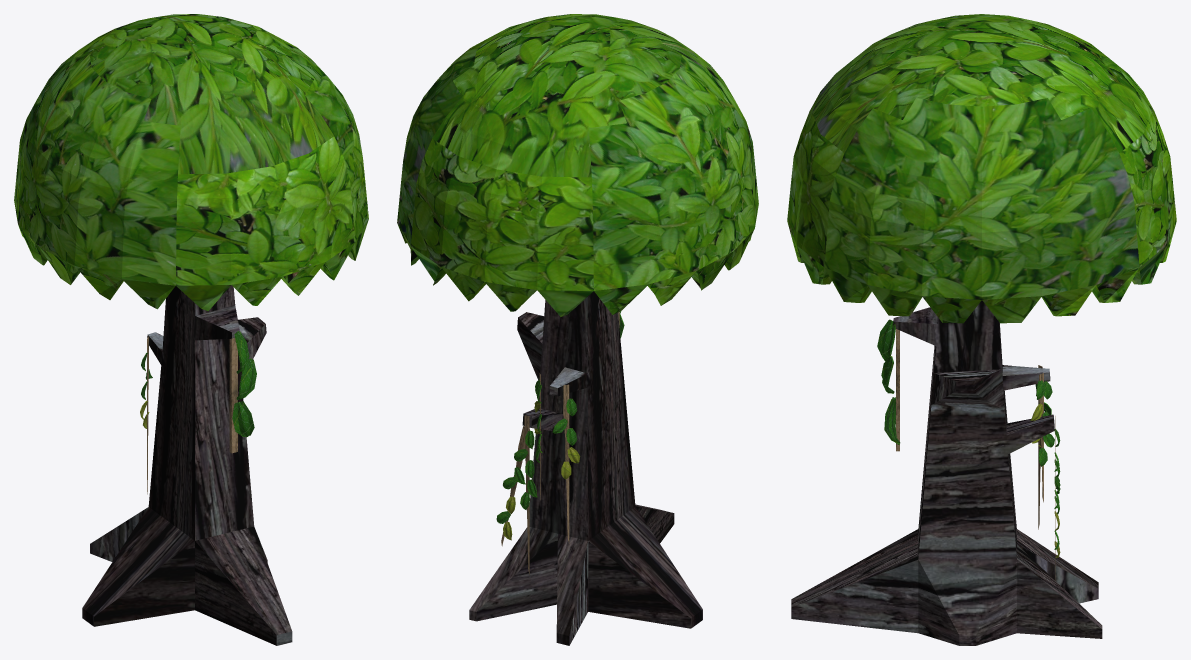
Rendered from tree5.fbx.
3 views of the same model, side by side, from view 1: azimuth 30°, elevation 25°; view 2: azimuth 150°, elevation 25°; view 3: azimuth 270°, elevation 25° (orthographic). The views are drawn at different scales.
Visible parts, largest first — view 1: tree:pSphere1, pCube1, pCube2, VEHICLEMAYBE:pPlane24, VEHICLEMAYBE:pPlane22; view 2: tree:pSphere1, pCube1, VEHICLEMAYBE:pPlane3; view 3: tree:pSphere1, pCube1.
Part boxes in pixels (x1,y1,x2,y2): tree:pSphere1: (14, 14, 368, 311); pCube1: (82, 285, 292, 645); pCube2: (229, 338, 237, 453); VEHICLEMAYBE:pPlane24: (232, 401, 254, 437); VEHICLEMAYBE:pPlane22: (236, 358, 256, 399); tree:pSphere1: (397, 14, 758, 316); pCube1: (469, 291, 702, 645); VEHICLEMAYBE:pPlane3: (563, 384, 569, 543); tree:pSphere1: (787, 14, 1176, 323); pCube1: (791, 300, 1102, 645).
Size of the model in its own units: 9.38 by 16.37 by 9.76.
Materials: 5 (5 with a texture image).
